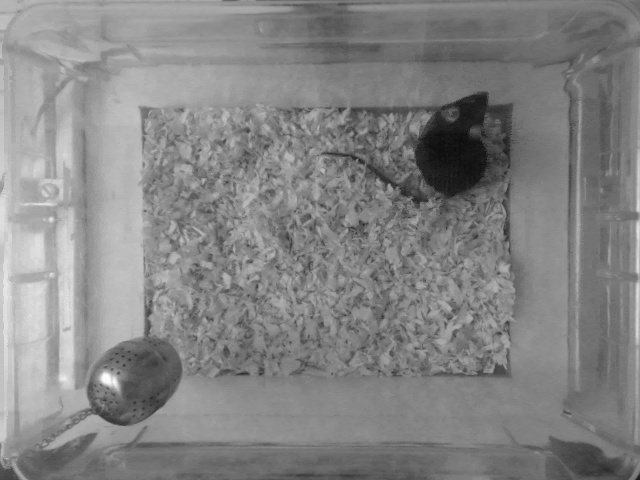mice: (314, 82, 499, 206)
